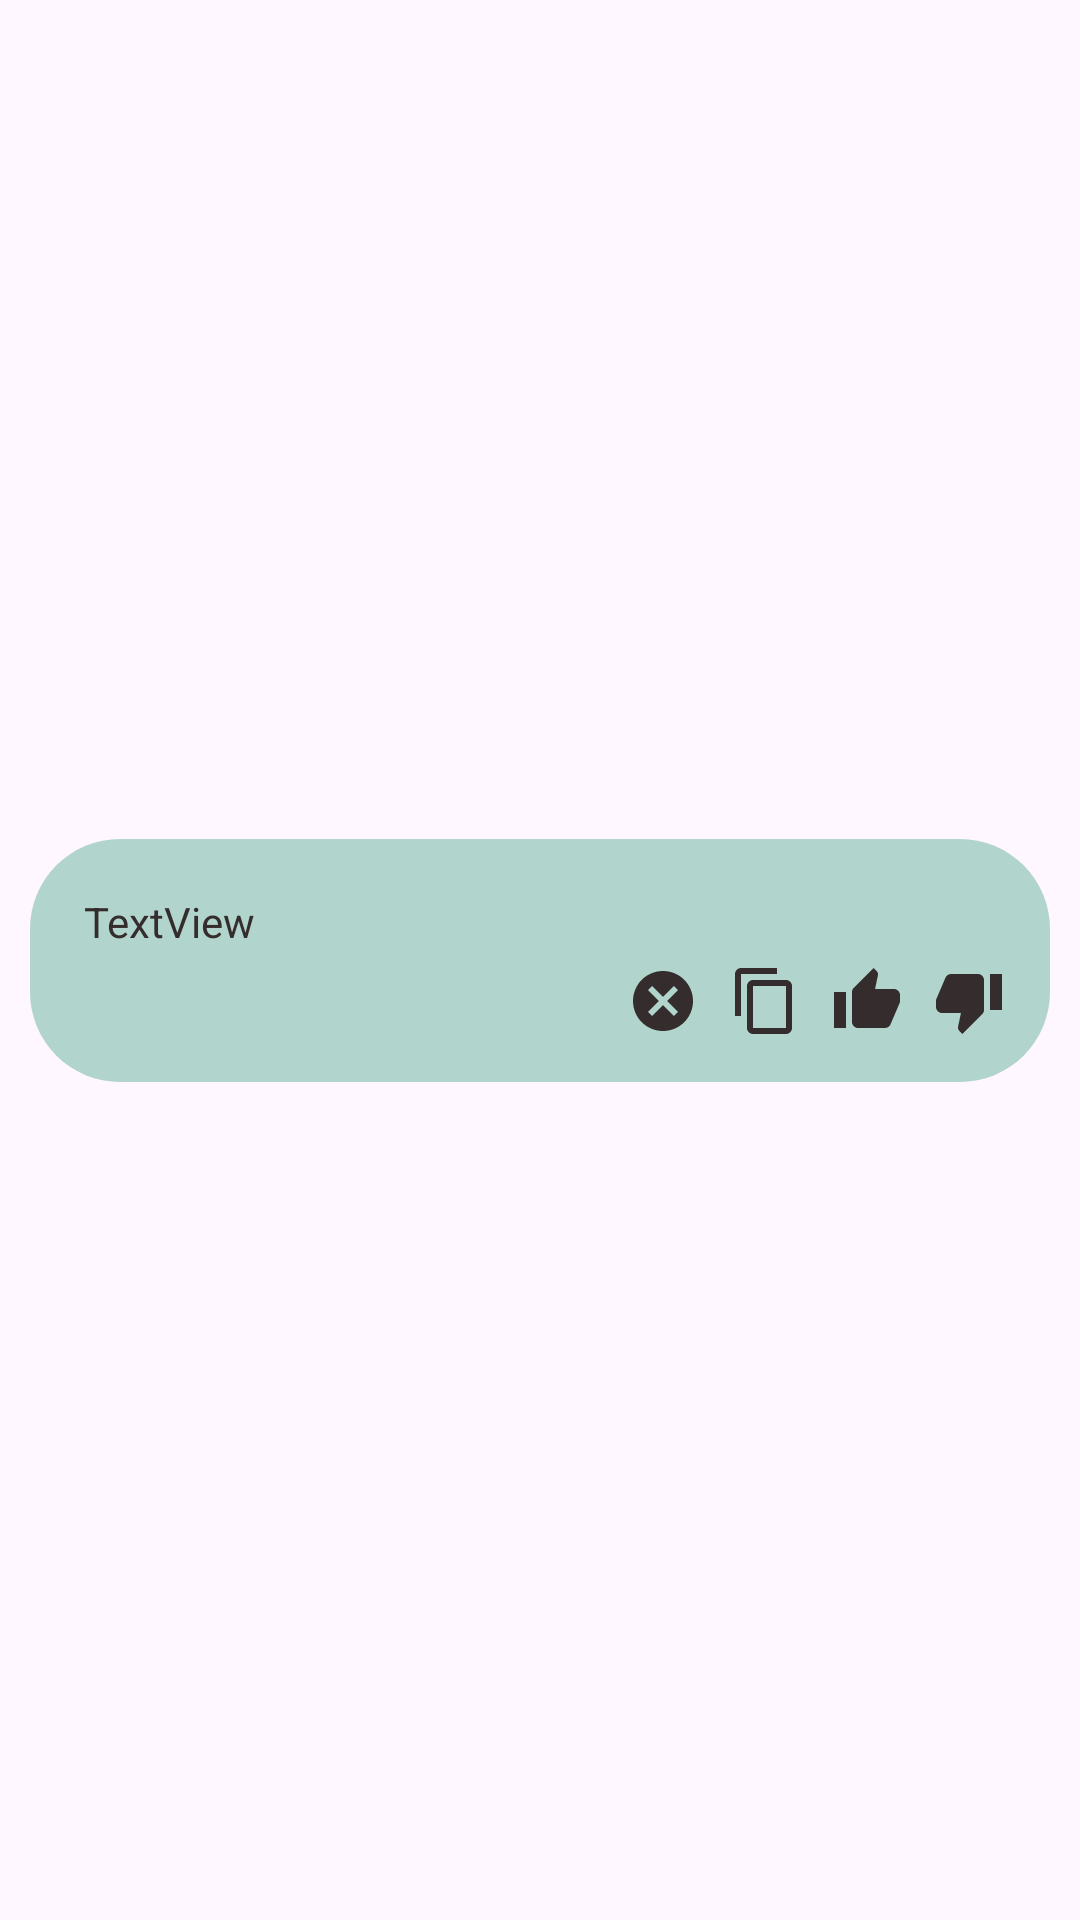

Icons on this 1080x1920 Android screen, each with the point to tap as (x=x, y=y):
cancel: (x=663, y=1001)
thumb down: (x=969, y=1004)
thumb up: (x=867, y=998)
